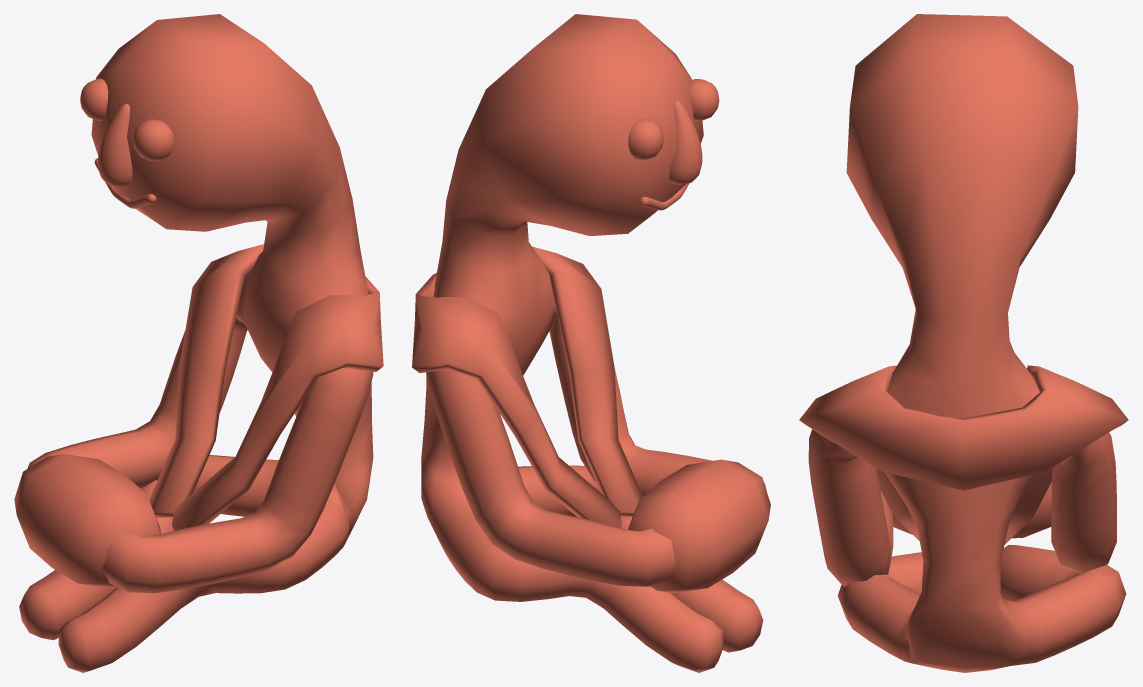
Rendered from terracota doll.fbx.
The picture shows the model from 3 angles, left to right: view 1: azimuth 30°, elevation 25°; view 2: azimuth 150°, elevation 25°; view 3: azimuth 270°, elevation 25°; orthographic projection. The views are drawn at different scales.
Visible parts, largest first — view 1: Tera doll; view 2: Tera doll; view 3: Tera doll.
Part boxes in pixels (bbox=[...]): Tera doll: bbox=[14, 14, 383, 672]; Tera doll: bbox=[412, 14, 770, 672]; Tera doll: bbox=[799, 14, 1128, 672].
Size of the model in its own units: 48.23 by 85.02 by 38.82.
